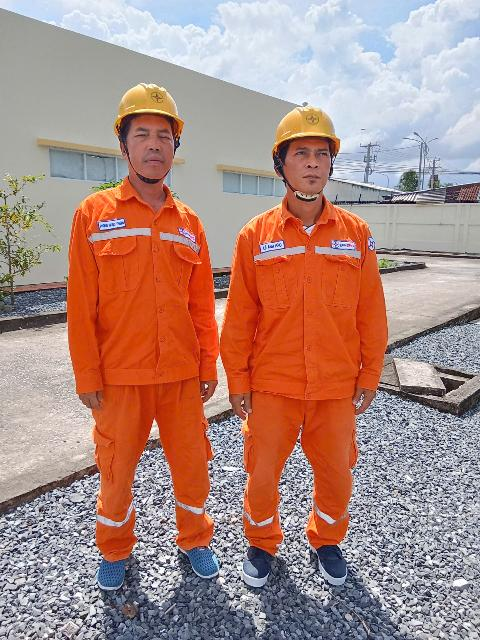helmet: (113, 64, 183, 138), (265, 99, 345, 160)
shoes: (169, 531, 227, 586), (83, 547, 142, 599), (301, 529, 348, 592), (235, 541, 278, 586)
